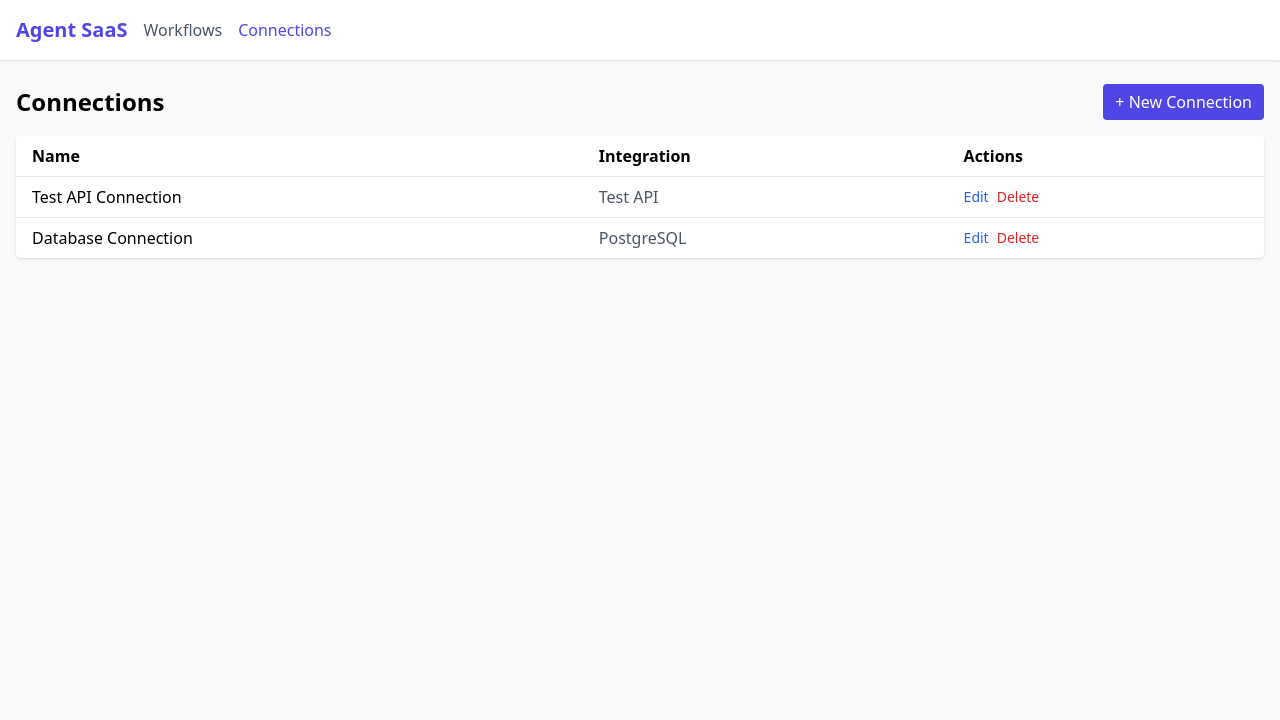
Test: Connections Page - Realistic Tests › should populate form when integration is selected
Click the button "+ New Connection". click: (1184,102)
box: [1103,84,1264,120]
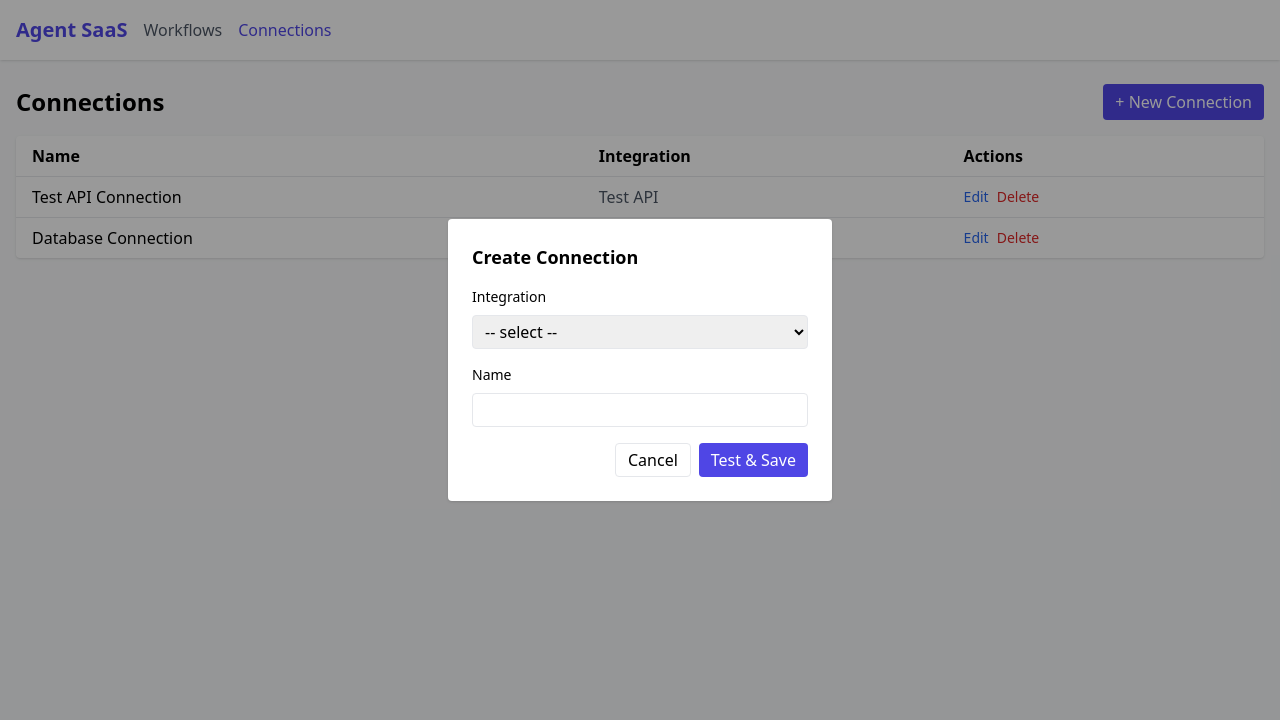
// Select integration
Select "Test API" in the dropdown. click: (640,332)
box: [472,315,808,349]
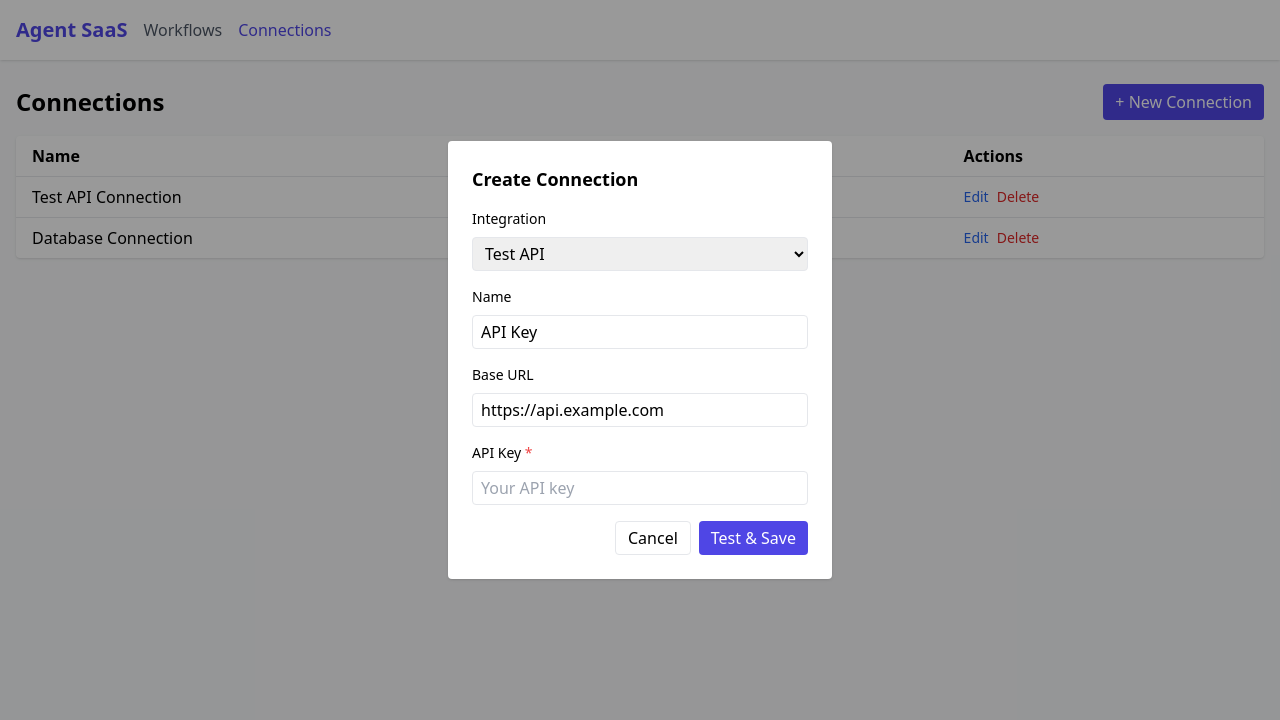
Check: the text "Base URL" is shown, box [472,365,534,384]
Check: the field below "Base URL" is shown, box [472,393,808,427]
Check: the text "API Key *" is shown, box [472,443,533,462]
